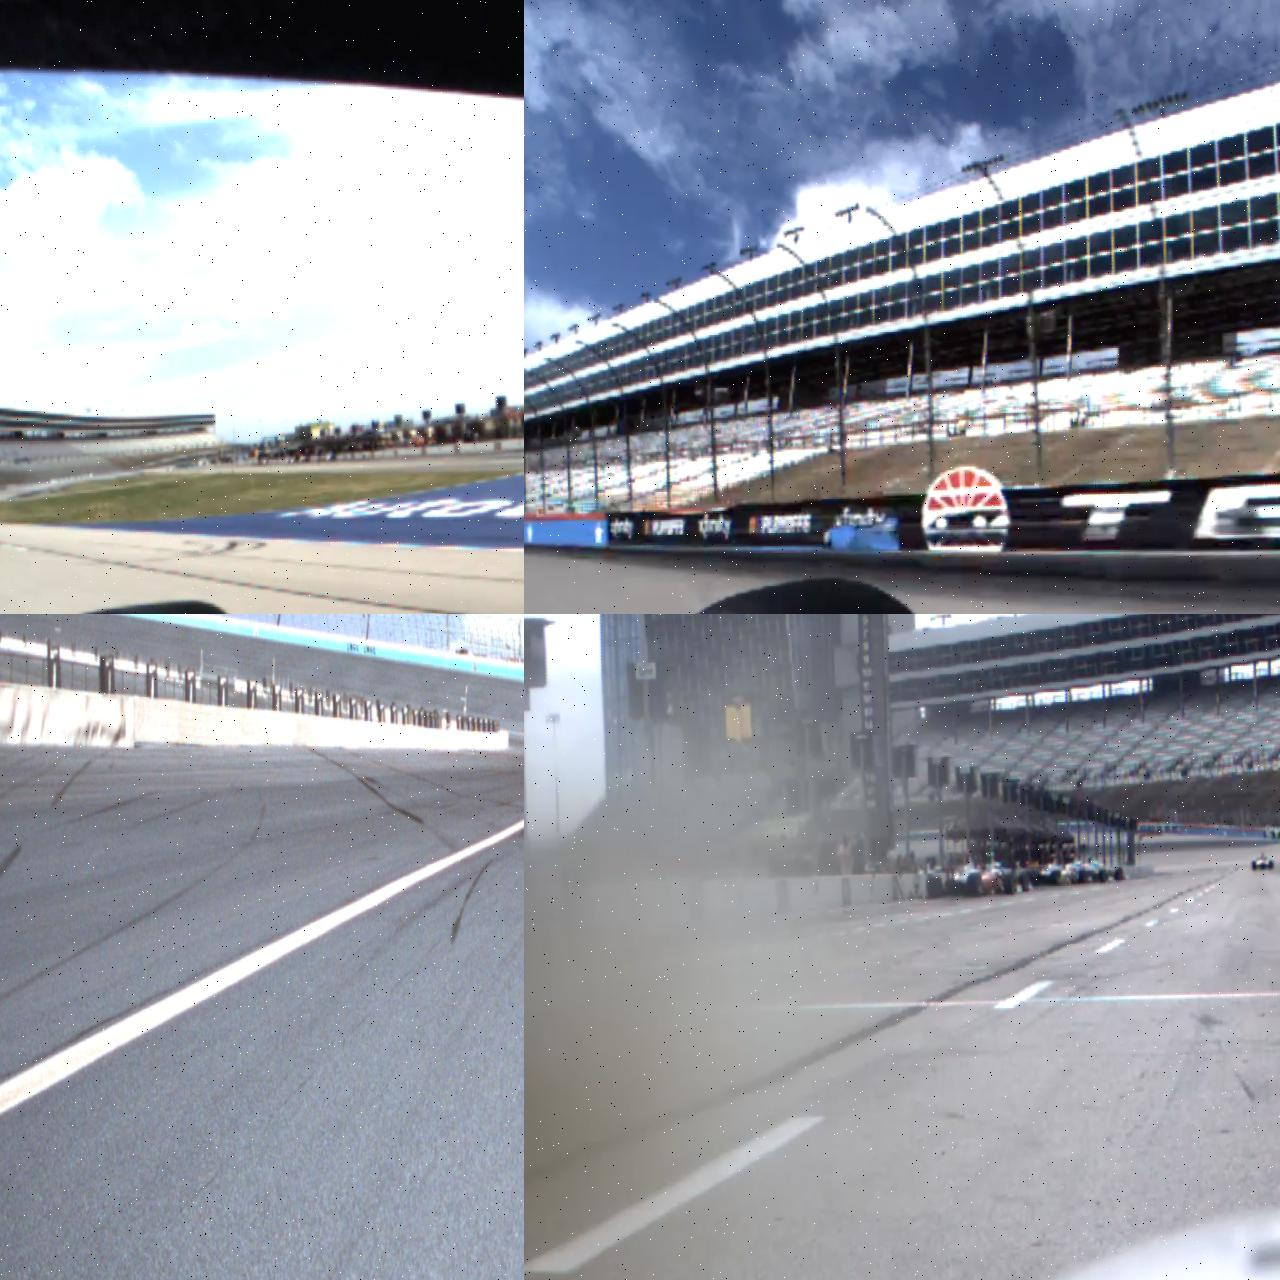AV: (1252, 852, 1274, 870)
Wheel: (967, 873, 983, 896), (928, 875, 942, 897), (1004, 875, 1016, 895), (1019, 873, 1029, 892), (1098, 870, 1108, 884), (1114, 868, 1123, 882), (1078, 870, 1086, 884), (1269, 860, 1273, 870), (1252, 861, 1256, 869)
